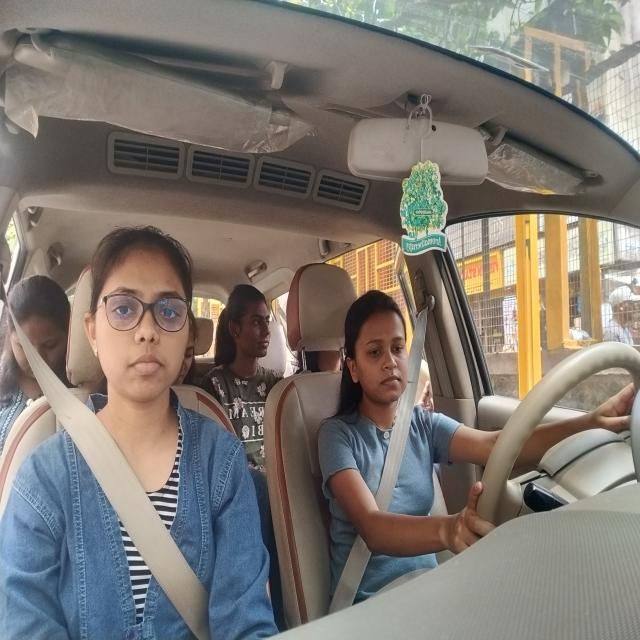person: (96, 252, 190, 412), (346, 299, 417, 397), (3, 284, 72, 382), (219, 285, 279, 364)
